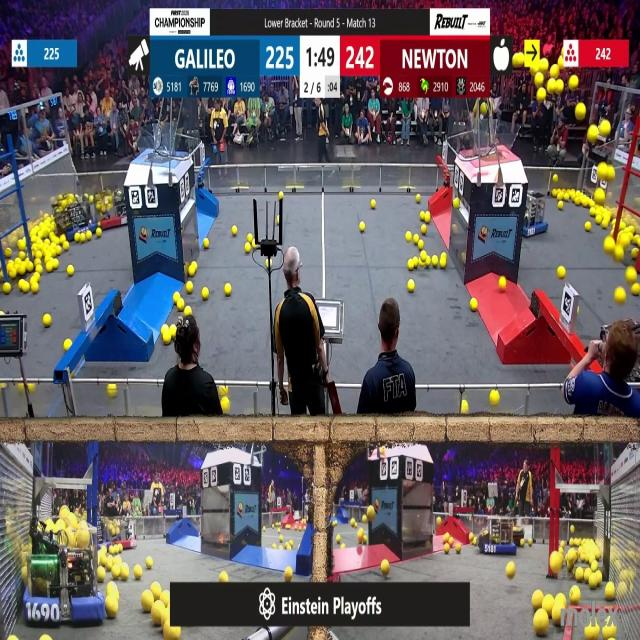ball_airborne: (600, 122, 611, 138), (588, 127, 598, 144), (511, 55, 522, 70), (575, 104, 585, 120), (616, 288, 626, 302), (598, 163, 608, 177), (595, 188, 605, 202), (627, 268, 637, 282), (604, 239, 613, 254), (569, 75, 578, 89), (616, 247, 625, 261), (531, 60, 539, 74), (537, 89, 545, 102), (535, 73, 543, 86), (606, 167, 614, 180), (546, 78, 554, 91), (551, 66, 559, 78), (539, 60, 547, 72), (557, 80, 564, 92), (481, 104, 487, 114), (380, 447, 386, 457), (591, 200, 596, 208)
ball_ground: (536, 612, 551, 638), (550, 553, 562, 578), (142, 593, 153, 613), (107, 599, 117, 618), (553, 607, 562, 626), (570, 588, 580, 605), (532, 592, 541, 610), (602, 627, 614, 640), (590, 574, 601, 588), (490, 391, 500, 406), (542, 595, 552, 610), (605, 586, 613, 602), (574, 568, 583, 582), (151, 584, 160, 598), (220, 398, 228, 413), (98, 567, 106, 582), (506, 563, 514, 577), (134, 566, 142, 580), (366, 508, 374, 522), (218, 571, 228, 582), (382, 561, 389, 576), (120, 567, 128, 580), (460, 403, 468, 416), (187, 265, 195, 278), (285, 567, 292, 581), (31, 282, 39, 294), (164, 334, 172, 346), (64, 340, 72, 352), (112, 567, 120, 579), (22, 281, 30, 293), (43, 314, 50, 327), (202, 288, 210, 299), (499, 278, 506, 290), (469, 300, 476, 312), (3, 282, 10, 294), (558, 268, 565, 280), (54, 260, 61, 272), (110, 544, 119, 553), (86, 232, 94, 242), (8, 270, 16, 280), (223, 284, 230, 295), (632, 284, 639, 295), (441, 259, 448, 270), (18, 264, 25, 275), (409, 280, 415, 292), (68, 266, 74, 278), (425, 254, 431, 266), (28, 262, 34, 274), (146, 558, 153, 568), (183, 307, 190, 317), (177, 302, 184, 312), (170, 324, 177, 334), (219, 386, 226, 396), (409, 261, 415, 272), (243, 241, 249, 252), (632, 248, 638, 259), (33, 273, 40, 282), (601, 219, 608, 228), (414, 235, 421, 244), (186, 282, 192, 292), (204, 239, 210, 249), (431, 256, 437, 266), (445, 542, 451, 552), (424, 212, 430, 222), (75, 234, 81, 244), (407, 233, 413, 243), (36, 264, 42, 274), (420, 251, 426, 261), (57, 246, 63, 256), (420, 212, 425, 224), (454, 200, 460, 210), (418, 240, 424, 249), (564, 191, 570, 200), (357, 532, 363, 541), (97, 229, 102, 239), (233, 225, 238, 235), (46, 264, 51, 274), (35, 257, 42, 264), (35, 251, 42, 258), (596, 215, 602, 223), (80, 234, 86, 242), (250, 242, 256, 250), (18, 252, 24, 260), (444, 534, 450, 542), (416, 193, 421, 202), (64, 242, 69, 251), (456, 543, 461, 552), (421, 224, 426, 233), (41, 635, 50, 640), (341, 542, 347, 549), (360, 221, 364, 231), (587, 222, 592, 230), (247, 235, 252, 243), (559, 202, 564, 210), (279, 191, 284, 199), (552, 188, 557, 196), (61, 236, 66, 244), (363, 536, 368, 544), (436, 517, 441, 525), (449, 535, 454, 543), (331, 521, 337, 527), (0, 272, 4, 281), (351, 520, 356, 527), (370, 201, 374, 209), (528, 538, 532, 546), (554, 175, 558, 183), (276, 216, 280, 224), (362, 516, 366, 524), (521, 539, 525, 546), (338, 535, 342, 542), (471, 537, 475, 544), (8, 636, 15, 640), (280, 536, 284, 542), (0, 311, 4, 317), (273, 543, 277, 548)
goal: (466, 121, 520, 159), (130, 129, 190, 161)
robot_blue: (22, 514, 106, 626), (0, 516, 22, 630), (52, 193, 93, 237), (481, 518, 519, 555), (518, 194, 548, 237)
robot_red: (94, 188, 127, 229), (99, 514, 136, 549)
